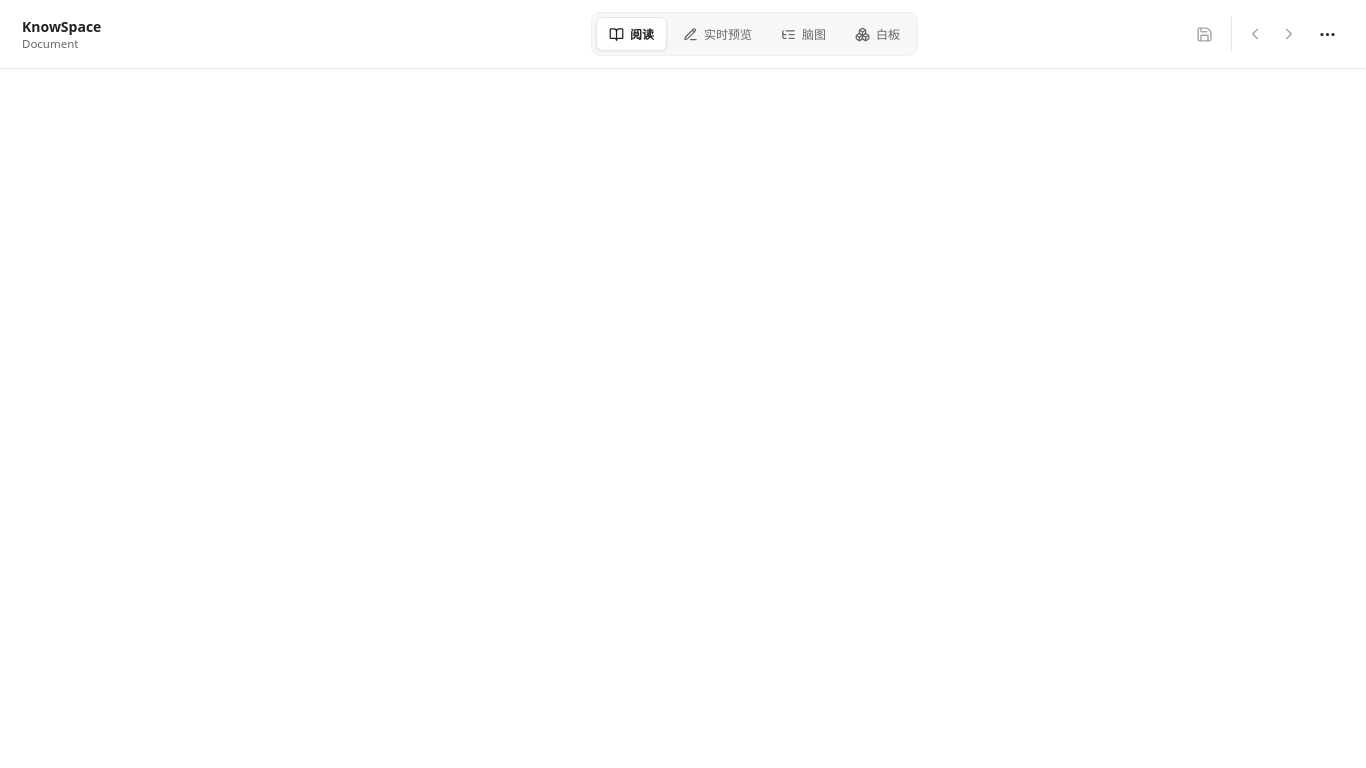
Scenario: document tools dialog › closes before opening another workflow and keeps top-level save available
Expected: the button named "保存当前文件" is shown, 1187,17 -> 1221,51
Click the button named "文档工具": [1327, 34] box 1310,17 -> 1344,51
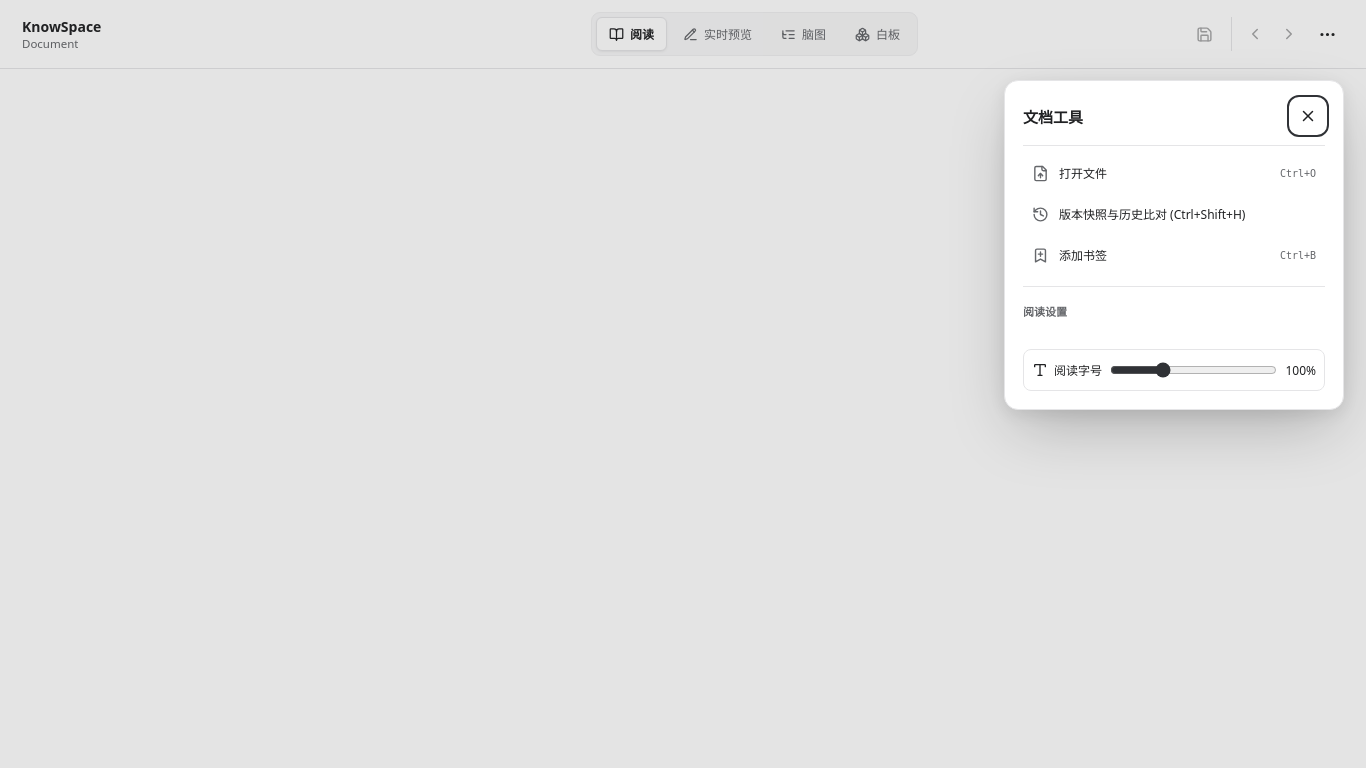
Click the button "版本快照与历史比对 (Ctrl+Shift+H)": [1174, 214] box 1023,195 -> 1325,233
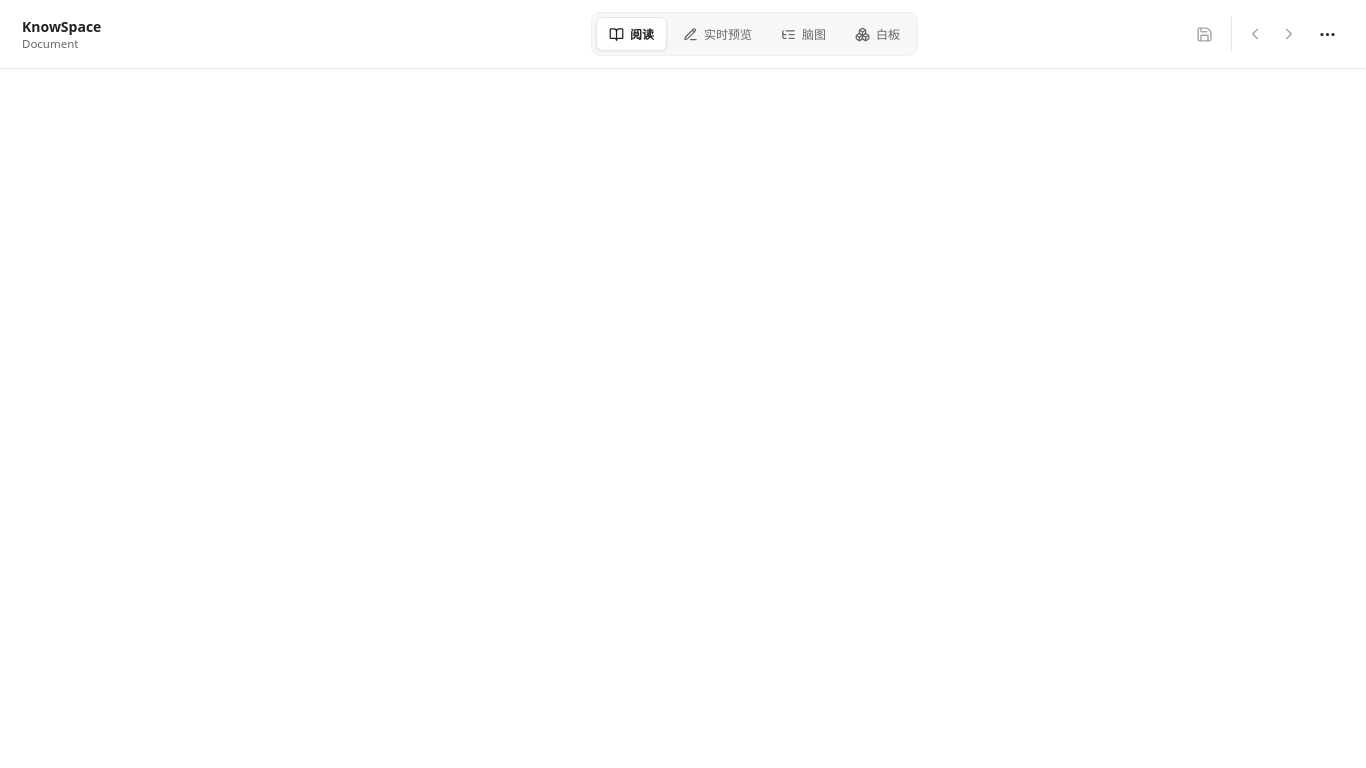
Expected: the dialog is gone
